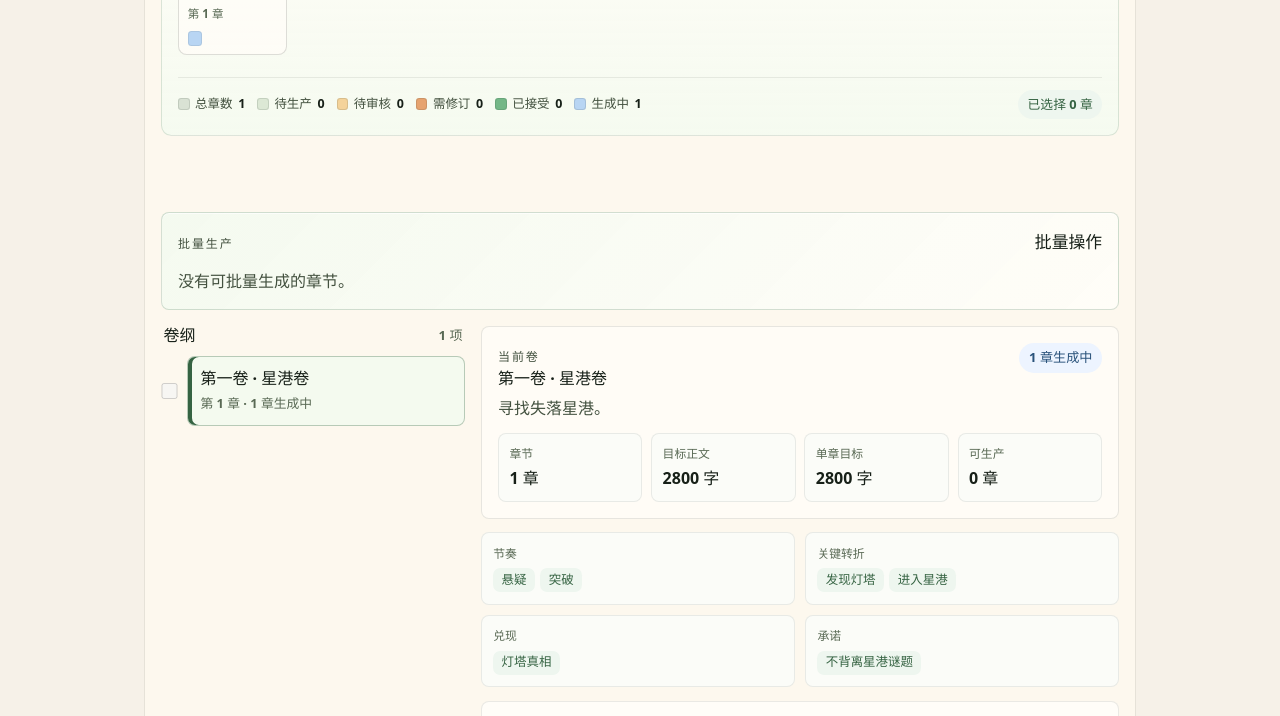
Test: volume revision shows animated waiting state while request is pending
(page scrolled)
Click the button "第一卷 · 星港卷 第 1 章 · 1 章生成中". click: (255, 378)
box: [187, 356, 465, 426]
(page scrolled)
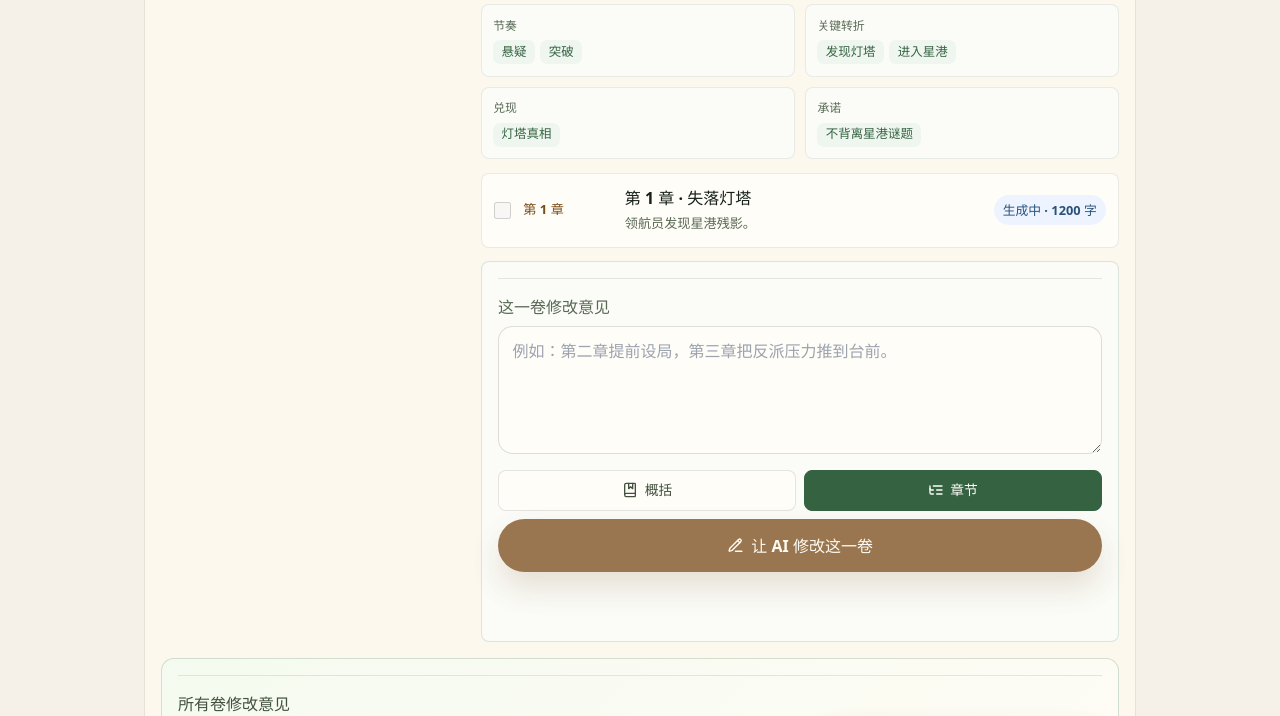
Type "第二章提前进入灯塔追击。" into the text box labelled "这一卷修改意见". click: (800, 390)
box: [498, 326, 1102, 454]
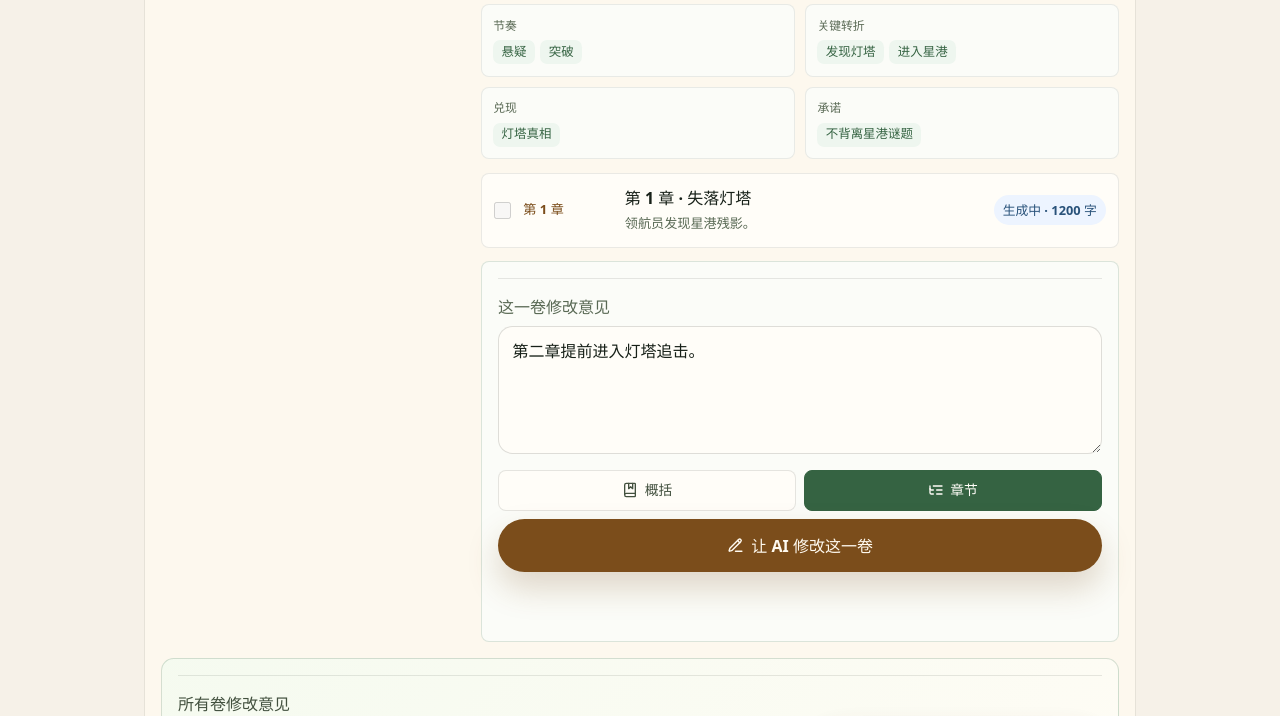
Click the button "让 AI 修改这一卷". click: (800, 546)
box: [498, 519, 1102, 572]
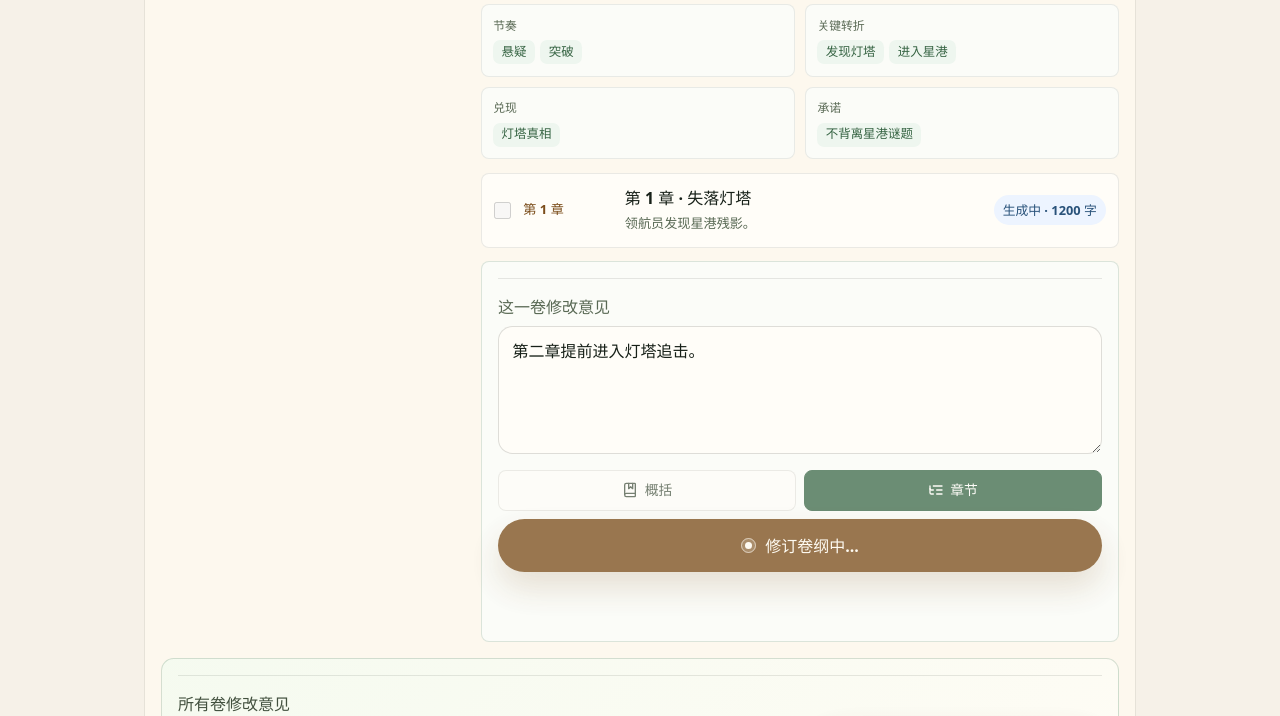
Check: the element with test id "ai-waiting-indicator" reads "修订卷纲中...", box [765, 535, 859, 557]
Check: the button "修订卷纲中..." is disabled, box [498, 519, 1102, 572]
